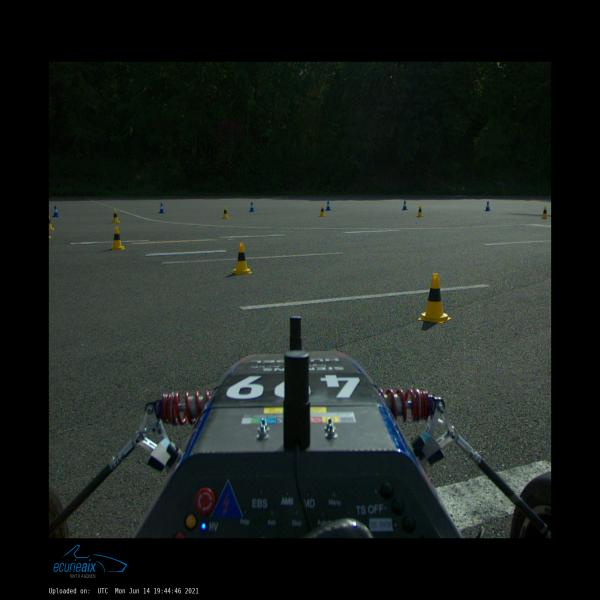blue_cone: (53, 206, 60, 217), (249, 202, 255, 212), (326, 201, 331, 211), (159, 203, 164, 213), (485, 201, 490, 211), (402, 201, 407, 210)
yellow_cone: (418, 273, 451, 323), (232, 243, 252, 274), (110, 227, 125, 249), (112, 209, 120, 222), (222, 206, 229, 219), (416, 206, 424, 217), (49, 214, 54, 230), (542, 206, 548, 219), (319, 206, 326, 216)
